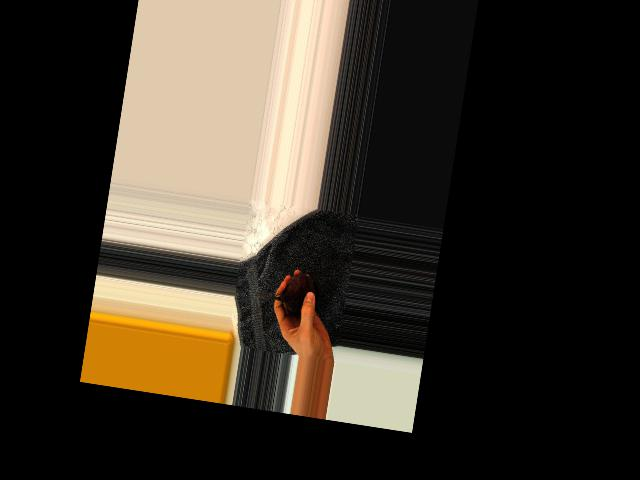beet: (255, 266, 321, 316)
